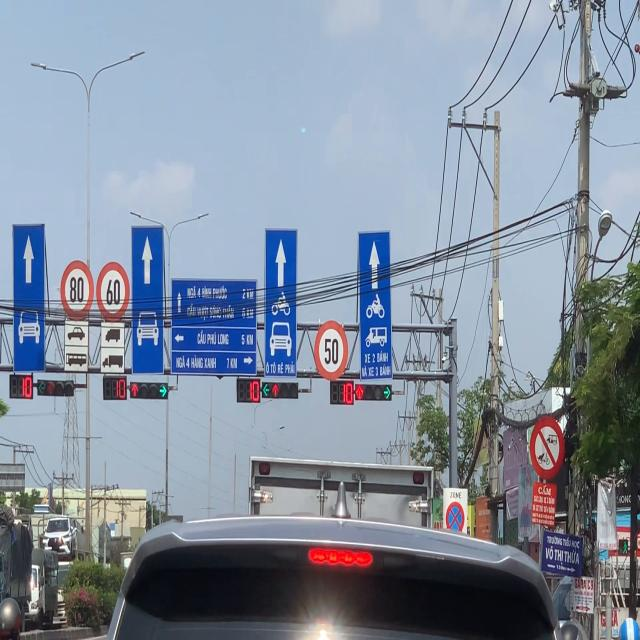Cam con lai: (529, 416, 565, 479)
Cam dung va do: (446, 502, 464, 535)
Toc do toi da: (60, 260, 94, 322), (96, 261, 130, 322), (314, 321, 348, 381)
